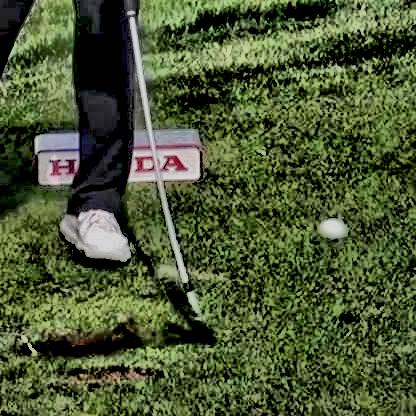golfball: (315, 215, 347, 239)
